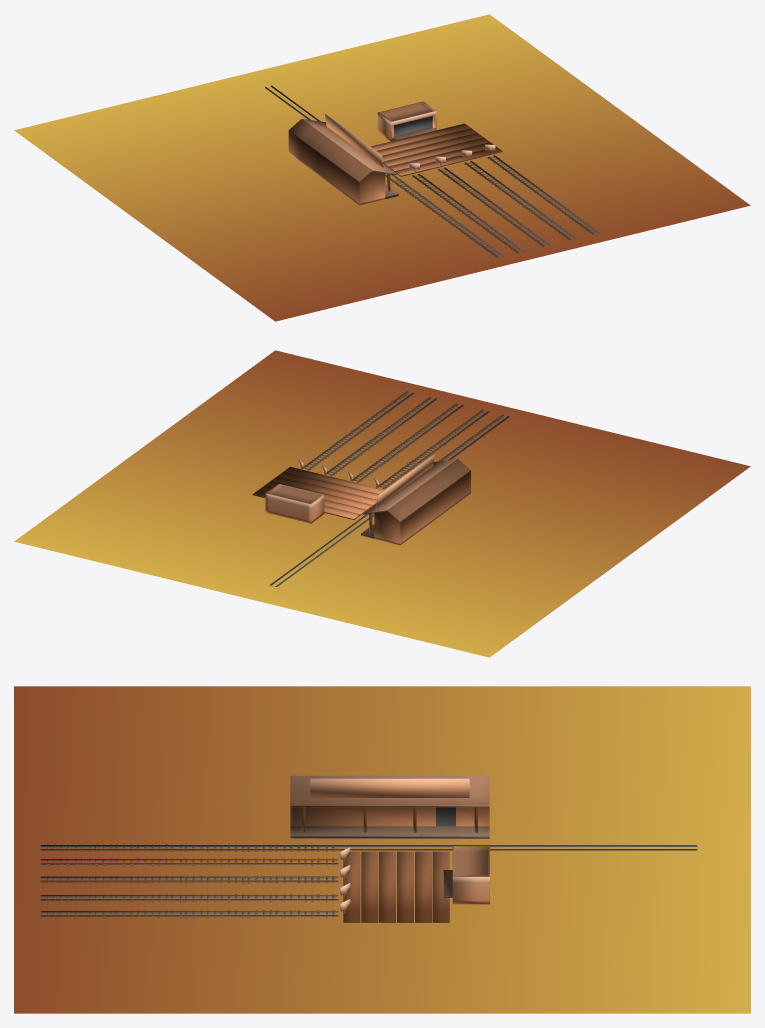
Rendered from Store_Intento CON Smooth (2).fbx.
The picture shows the model from 3 angles, top to bottom: view 1: azimuth 30°, elevation 25°; view 2: azimuth 150°, elevation 25°; view 3: azimuth 270°, elevation 25°; orthographic projection. The views are drawn at different scales.
Visible parts, largest first — view 1: Plane.001, Cube.003, Plane.009, Cube.005, Cube, Cube.004; view 2: Plane.001, Cube.003, Plane.009, Cube.005, Cube, Cube.004; view 3: Plane.001, Cube.003, Plane.009, Cube.005, Cube.004, Cube.
Boxes of the visible parts, x1,y1,x2,y2 form: Plane.001: (14,14,750,321); Cube.003: (288,118,398,205); Plane.009: (264,85,600,257); Cube.005: (370,123,502,176); Cube: (377,101,436,141); Cube.004: (325,114,383,167); Plane.001: (14,350,750,657); Cube.003: (361,458,470,545); Plane.009: (270,391,509,586); Cube.005: (252,467,384,519); Cube: (265,483,324,523); Cube.004: (376,454,434,507); Plane.001: (14,686,750,1013); Cube.003: (290,775,489,838); Plane.009: (40,844,697,917); Cube.005: (343,851,449,922); Cube.004: (310,778,469,797); Cube: (443,845,489,904).
Size of the model in its own units: 15297 by 1174 by 14560.
